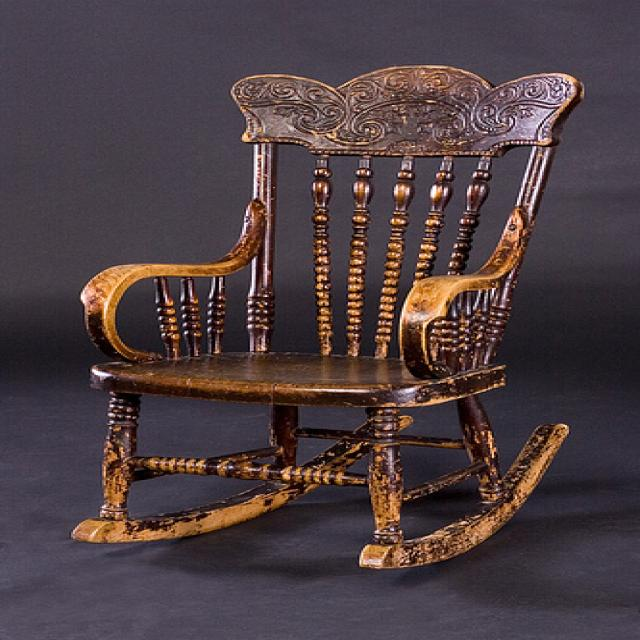chair: (72, 65, 582, 571)
